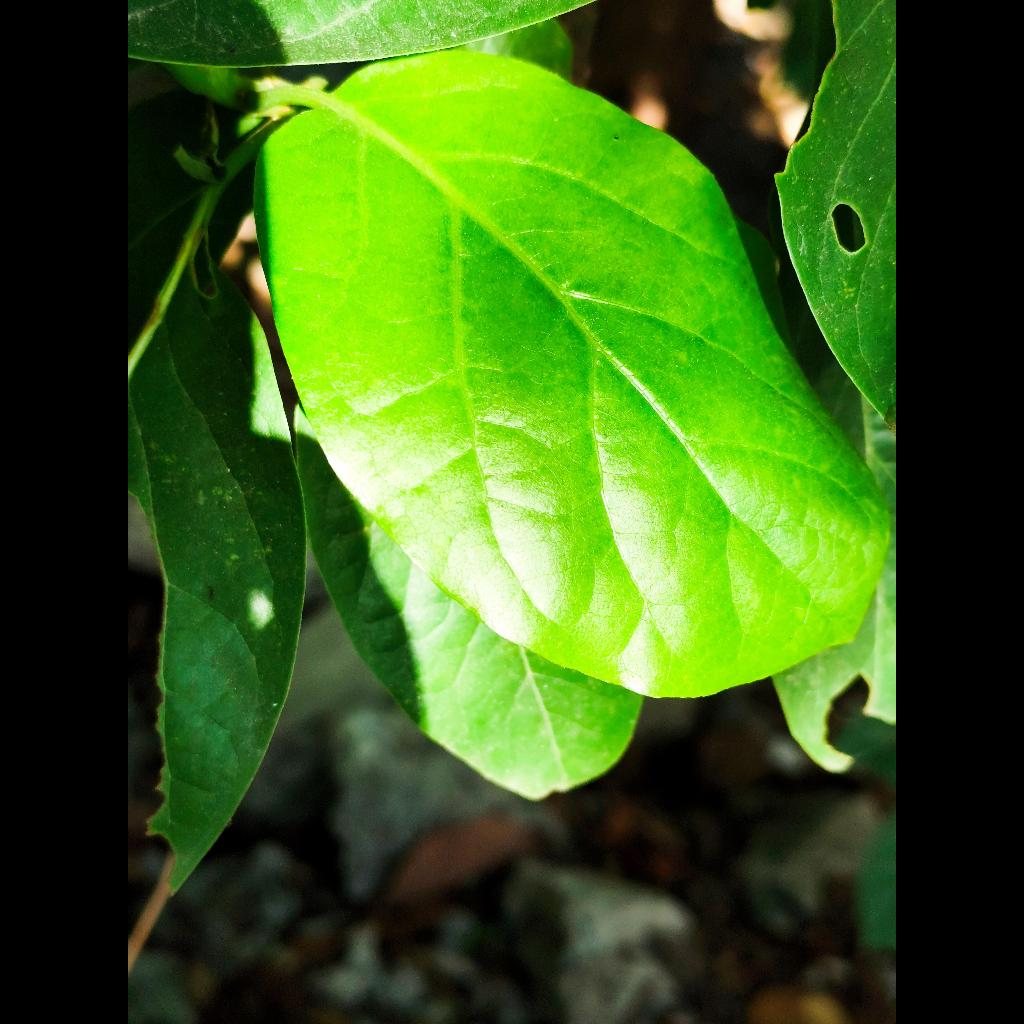Healthy: (255, 51, 887, 696)
